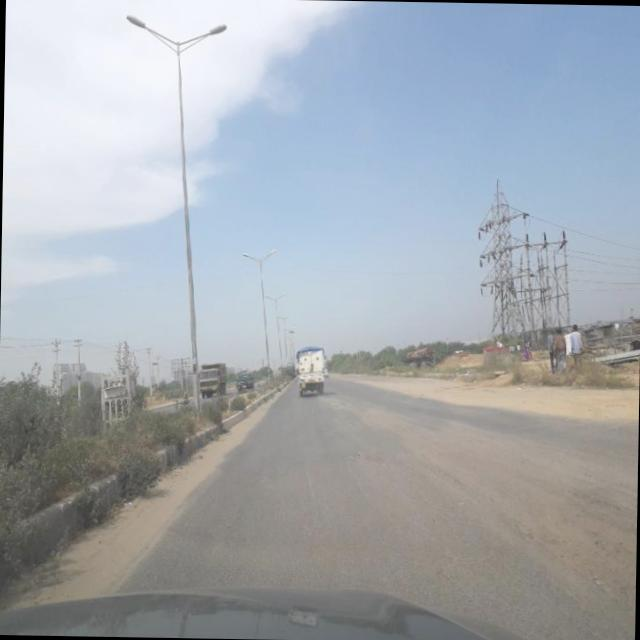pothole: (298, 444, 323, 524)
